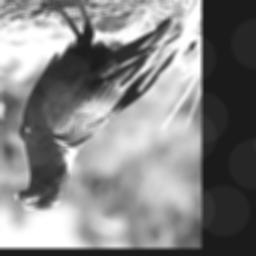Crow: (9, 0, 182, 215)
